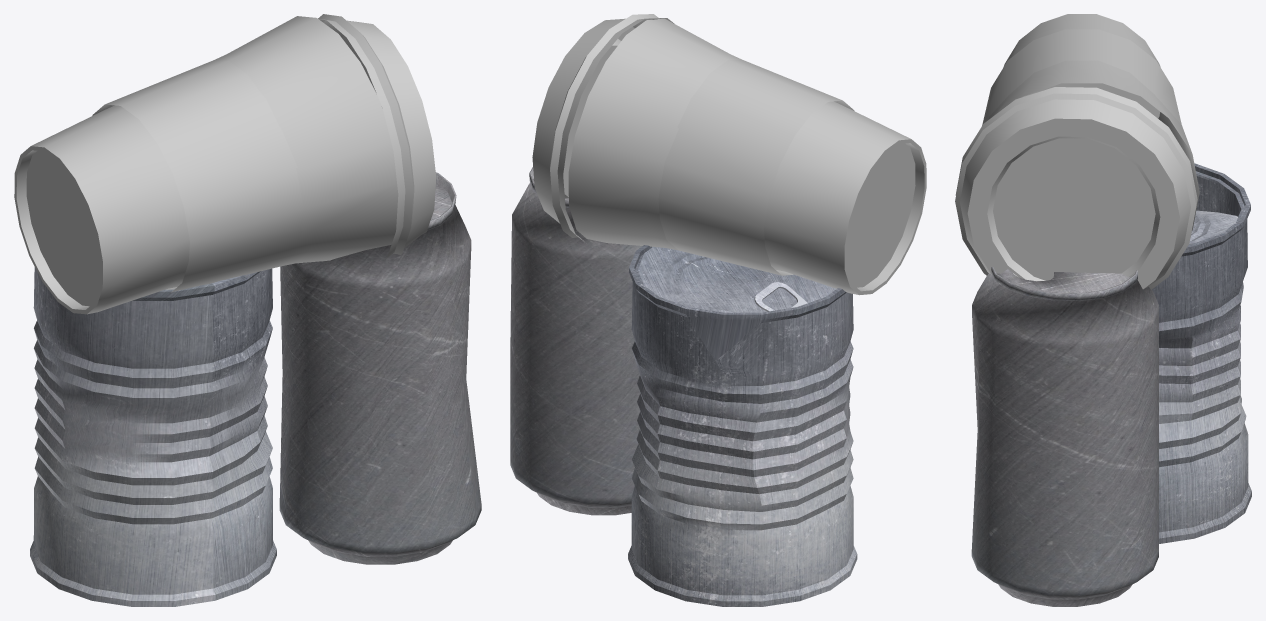
3 renders of one model, left to right at view 1: azimuth 30°, elevation 25°; view 2: azimuth 150°, elevation 25°; view 3: azimuth 270°, elevation 25°, orthographic. The views are drawn at different scales.
Visible parts, largest first — view 1: coffee cup.004, can.004, cola can.001 lowpoly.002; view 2: coffee cup.004, can.004, cola can.001 lowpoly.002; view 3: cola can.001 lowpoly.002, coffee cup.004, can.004.
Boxes of the visible parts, x1,y1,x2,y2 form: coffee cup.004: (14, 14, 436, 314); can.004: (30, 267, 276, 606); cola can.001 lowpoly.002: (279, 172, 481, 564); coffee cup.004: (532, 14, 926, 295); can.004: (628, 245, 857, 606); cola can.001 lowpoly.002: (510, 167, 642, 515); cola can.001 lowpoly.002: (971, 267, 1158, 606); coffee cup.004: (955, 14, 1199, 289); can.004: (1152, 163, 1251, 543).
Size of the model in its own units: 124 by 151 by 84.73.
